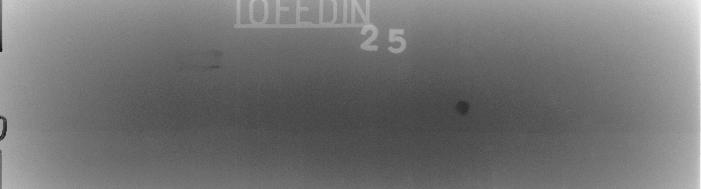FP: (172, 49, 232, 73)
PO: (447, 95, 481, 121)
